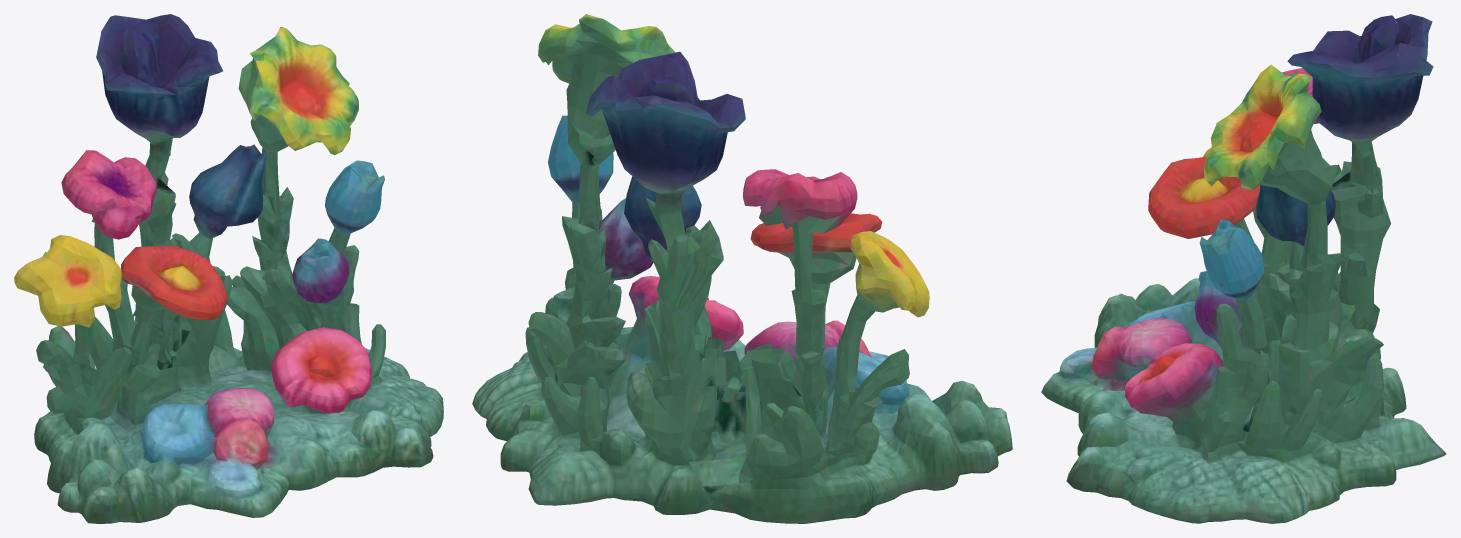
Rendered from bloom.glb.
3 views of the same model, side by side, from view 1: azimuth 30°, elevation 25°; view 2: azimuth 150°, elevation 25°; view 3: azimuth 270°, elevation 25° (orthographic). The views are drawn at different scales.
Bounding box in the file's own units: 1.9 × 1.68 × 1.57.
Materials: 1 (1 with a texture image).
